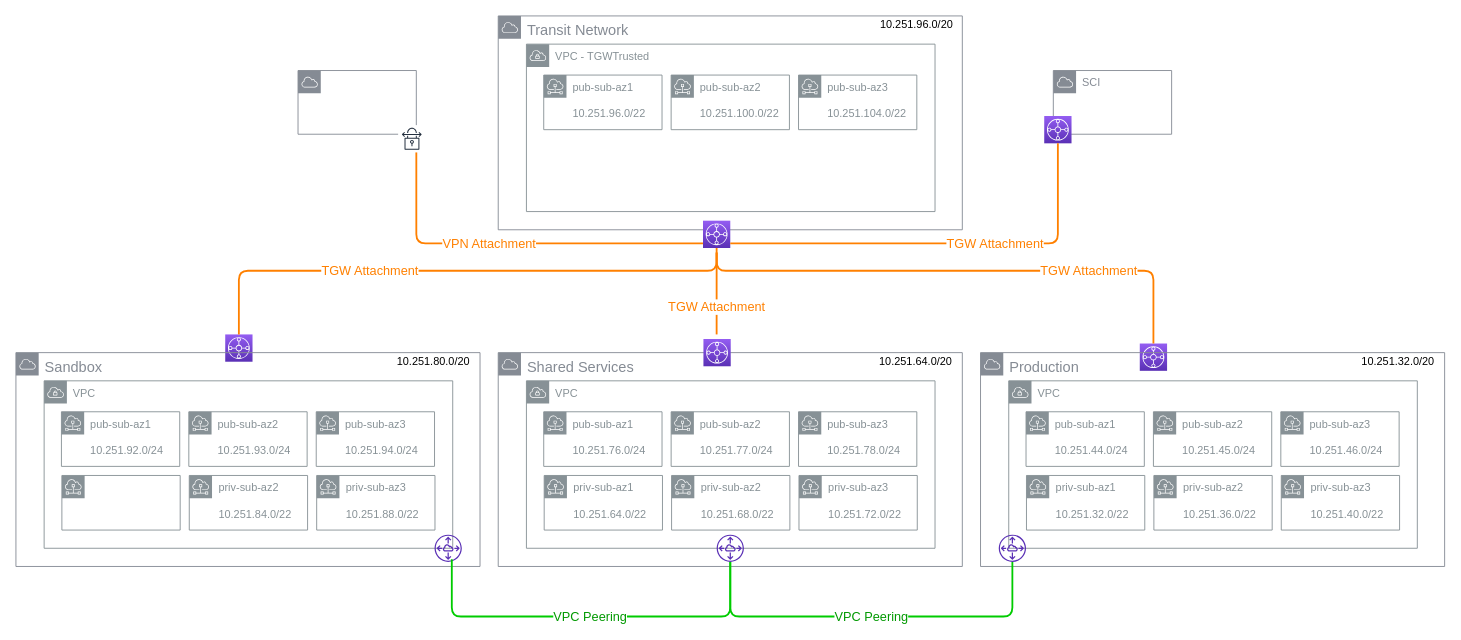
The diagram is 1461 pixels wide and 640 high, and some of its shapes have lost their labels. Each missing label, with the centre of its shape:
"priv-sub-az1 10.251.80.0/22" belongs at pixel 120 502.
"VMC" belongs at pixel 356 102.
"VPN Connection" belongs at pixel 411 138.
